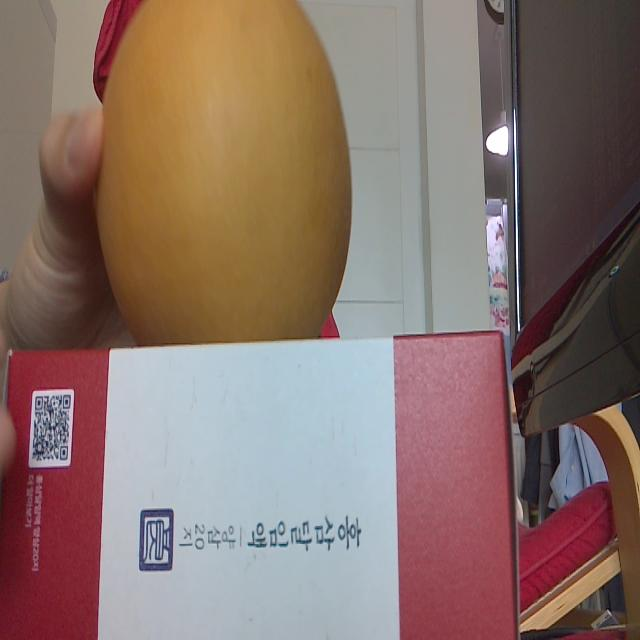pear: (90, 0, 354, 343)
